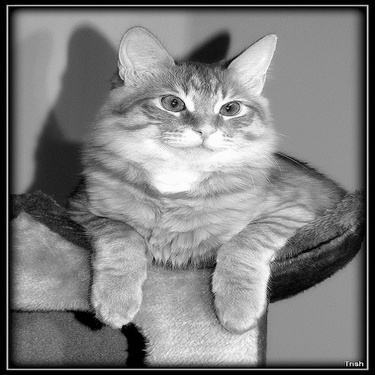cat: (69, 21, 319, 335)
